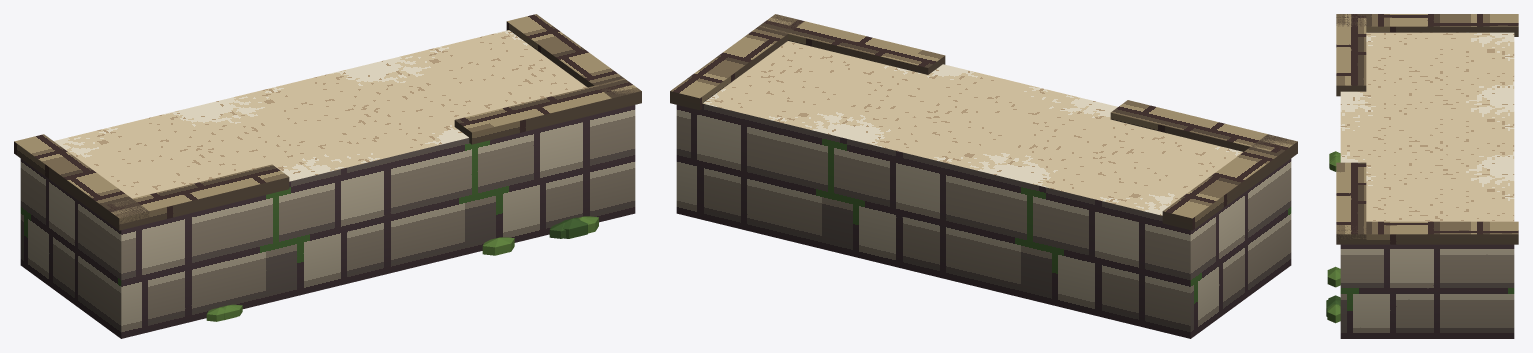
The model's file is scene_plat_g2.glb.
3 renders of one model, left to right at view 1: azimuth 30°, elevation 25°; view 2: azimuth 150°, elevation 25°; view 3: azimuth 270°, elevation 25°, orthographic. The views are drawn at different scales.
Parts seen in each view (by area): view 1: scene_plat_g2; view 2: scene_plat_g2; view 3: scene_plat_g2.
Boxes of the visible parts, x1,y1,x2,y2 form: scene_plat_g2: [14, 14, 641, 338]; scene_plat_g2: [670, 14, 1297, 338]; scene_plat_g2: [1326, 14, 1518, 338].
Bounding box in the file's own units: 6.3 × 1.49 × 2.32.
3 materials, 2 textured.
